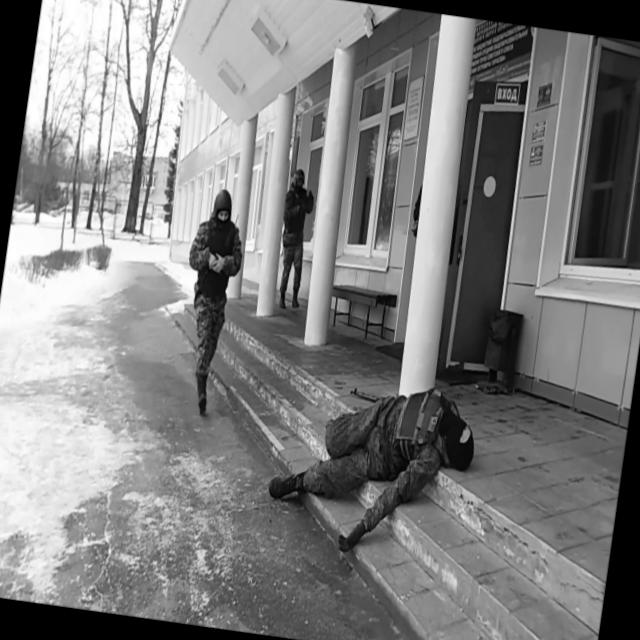gun: (347, 382, 384, 406)
person: (168, 185, 253, 418), (270, 166, 320, 312)
person with a gun: (260, 365, 483, 570)
